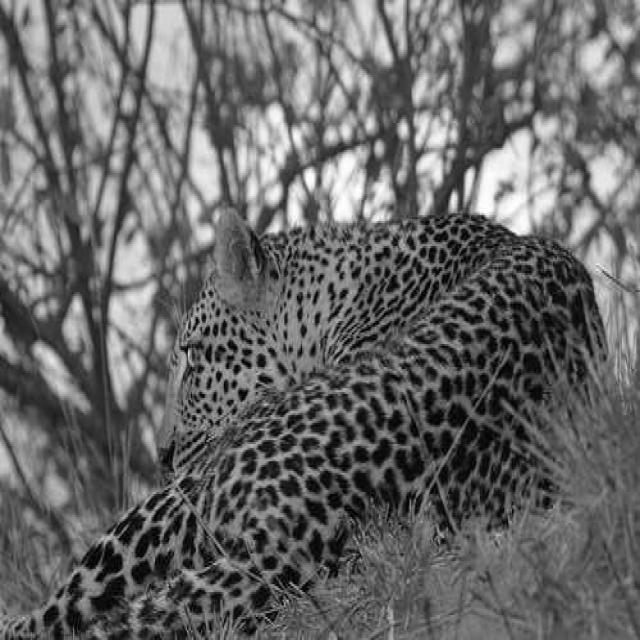Leopard: (103, 136, 536, 611)
